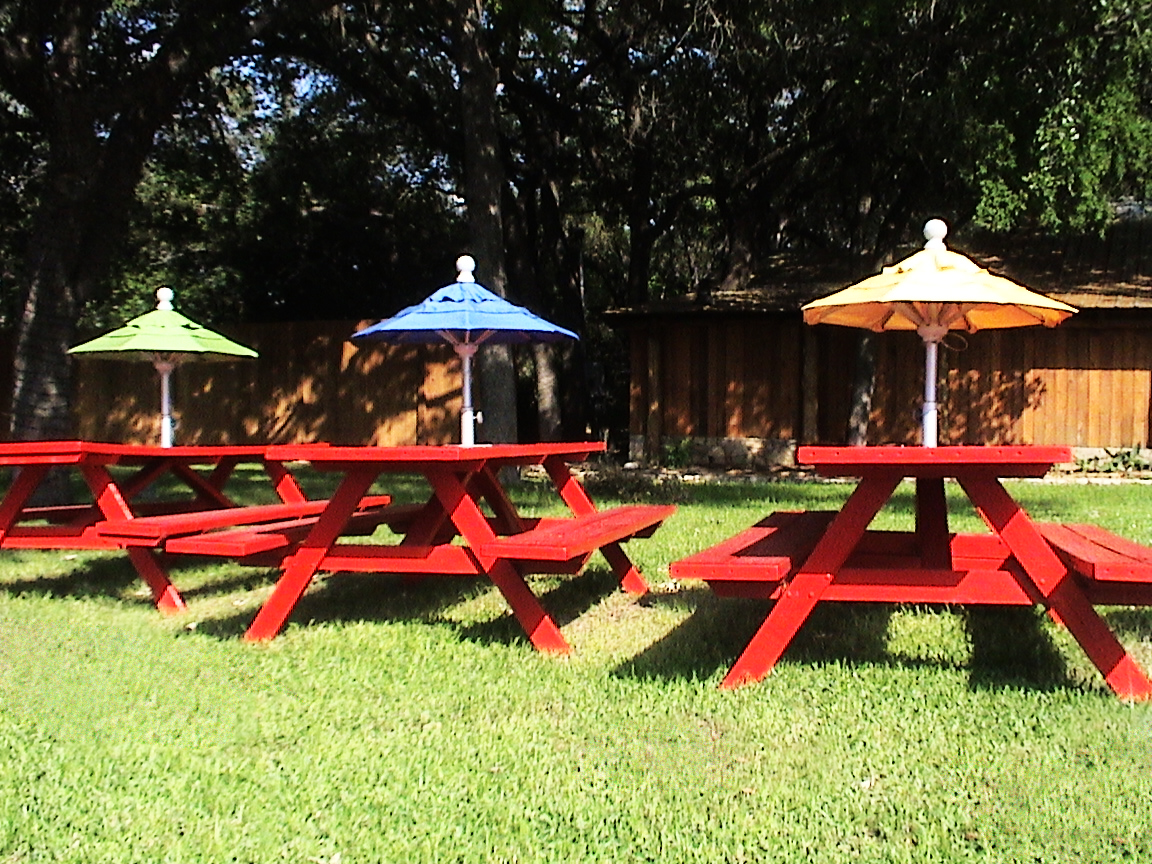obstacle: (669, 439, 1146, 698), (262, 436, 678, 643), (7, 436, 249, 609)
